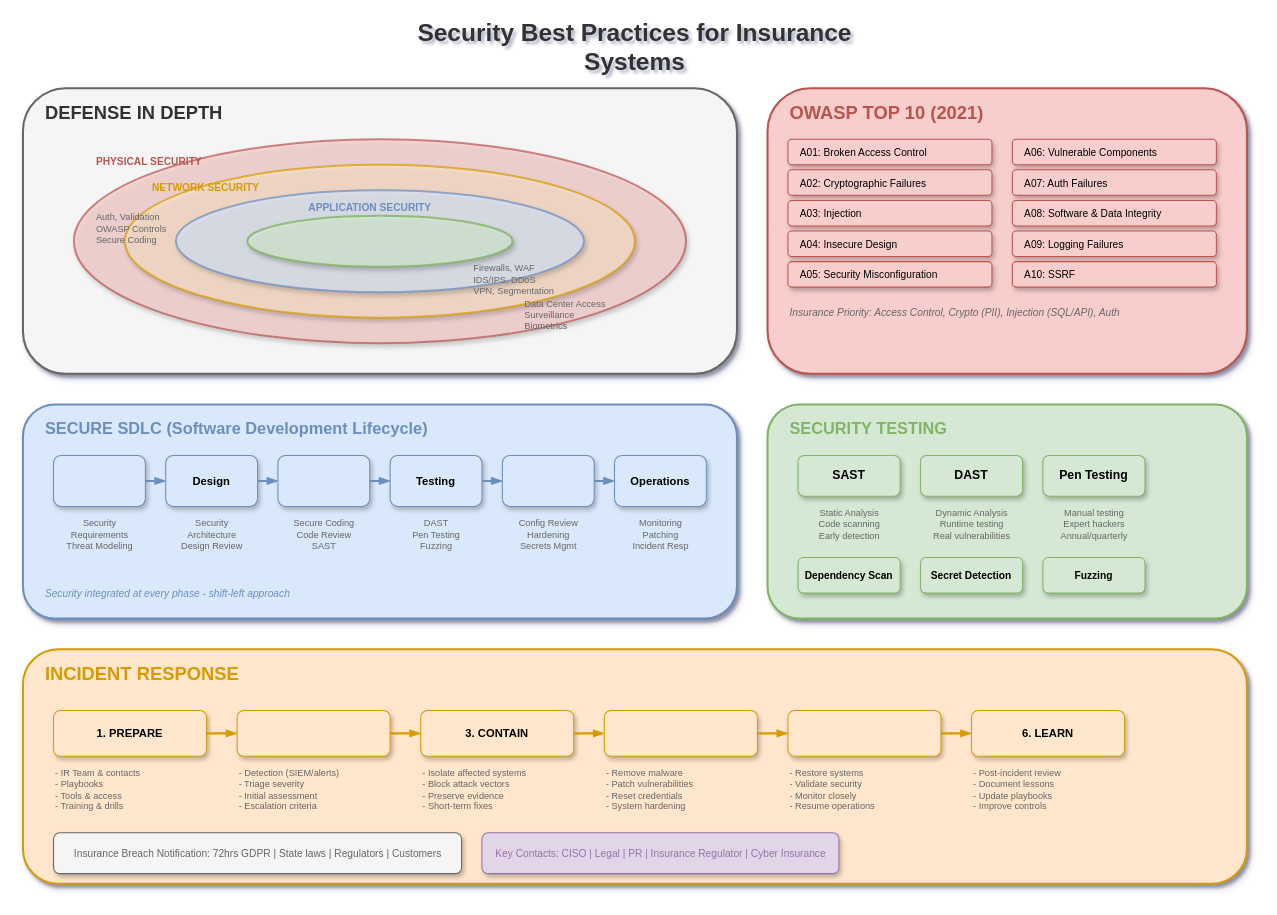
The diagram is 1277 pixels wide and 915 high, and some of its shapes have lost their labels. Each missing label, with the centre of its shape:
2. IDENTIFY: pixel 314 734
4. ERADICATE: pixel 681 734
5. RECOVER: pixel 865 734
DATA SECURITY: pixel 380 242
Deployment: pixel 548 482
Development: pixel 324 482
Requirements: pixel 99 482
